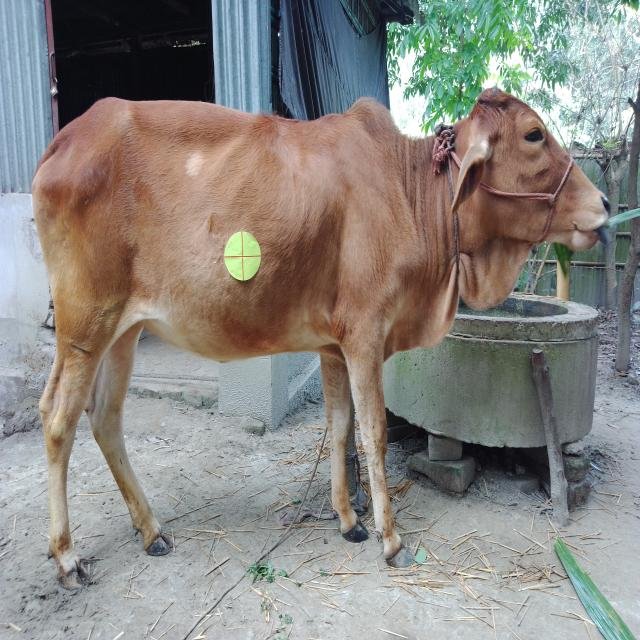badan_sapi: (35, 112, 414, 360)
sapi: (17, 62, 622, 592)
